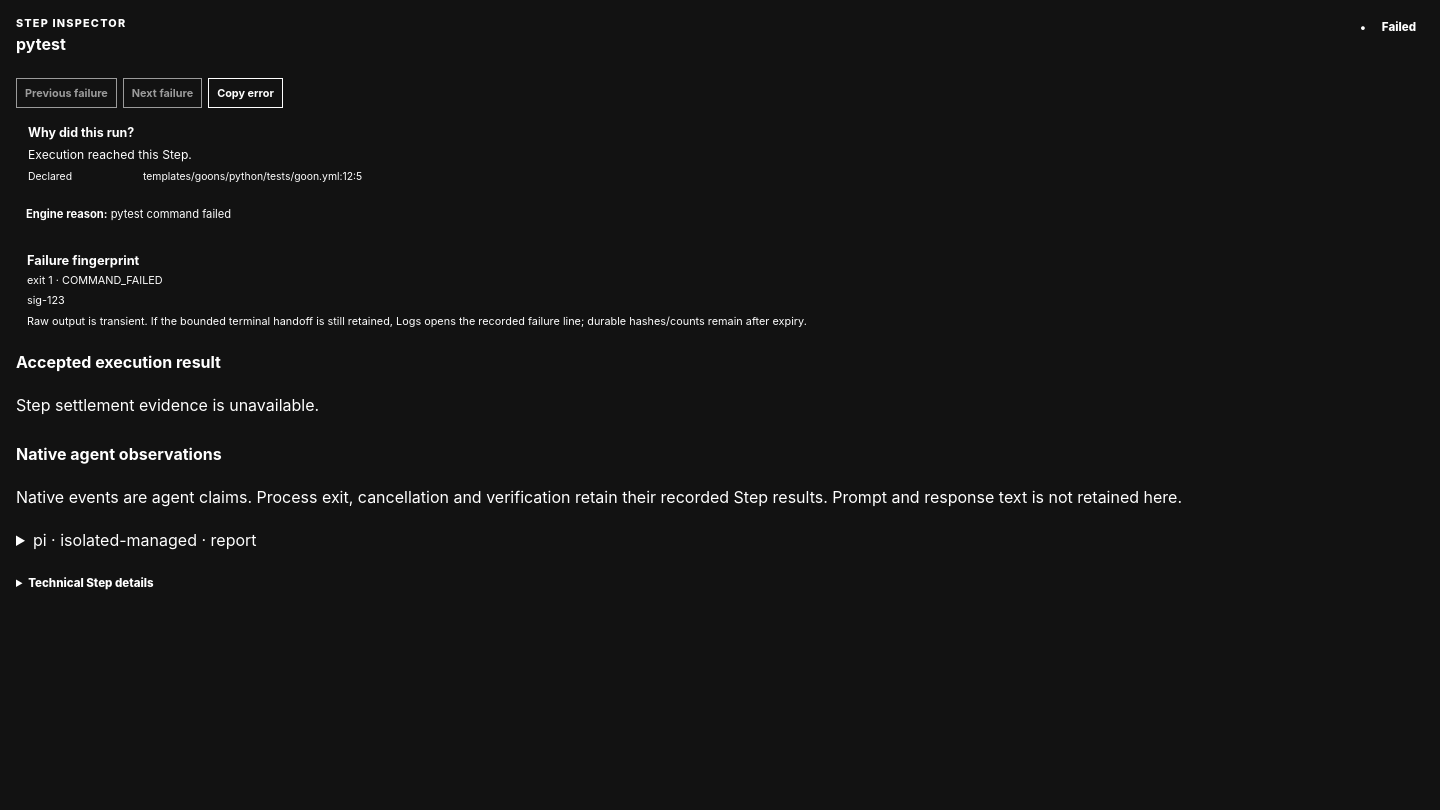
Scenario: GameTapeStepInspector failure actions › discloses recorded native claims and omissions without replacing the failed Step
Expected: the text "Native agent observations" is shown, [16,444,222,464]
Expected: the text "Native events are agent claims" is shown, [16,487,1182,507]
Click the heading "pi · isolated-managed · report": {"x": 145, "y": 540} [33,530,256,550]
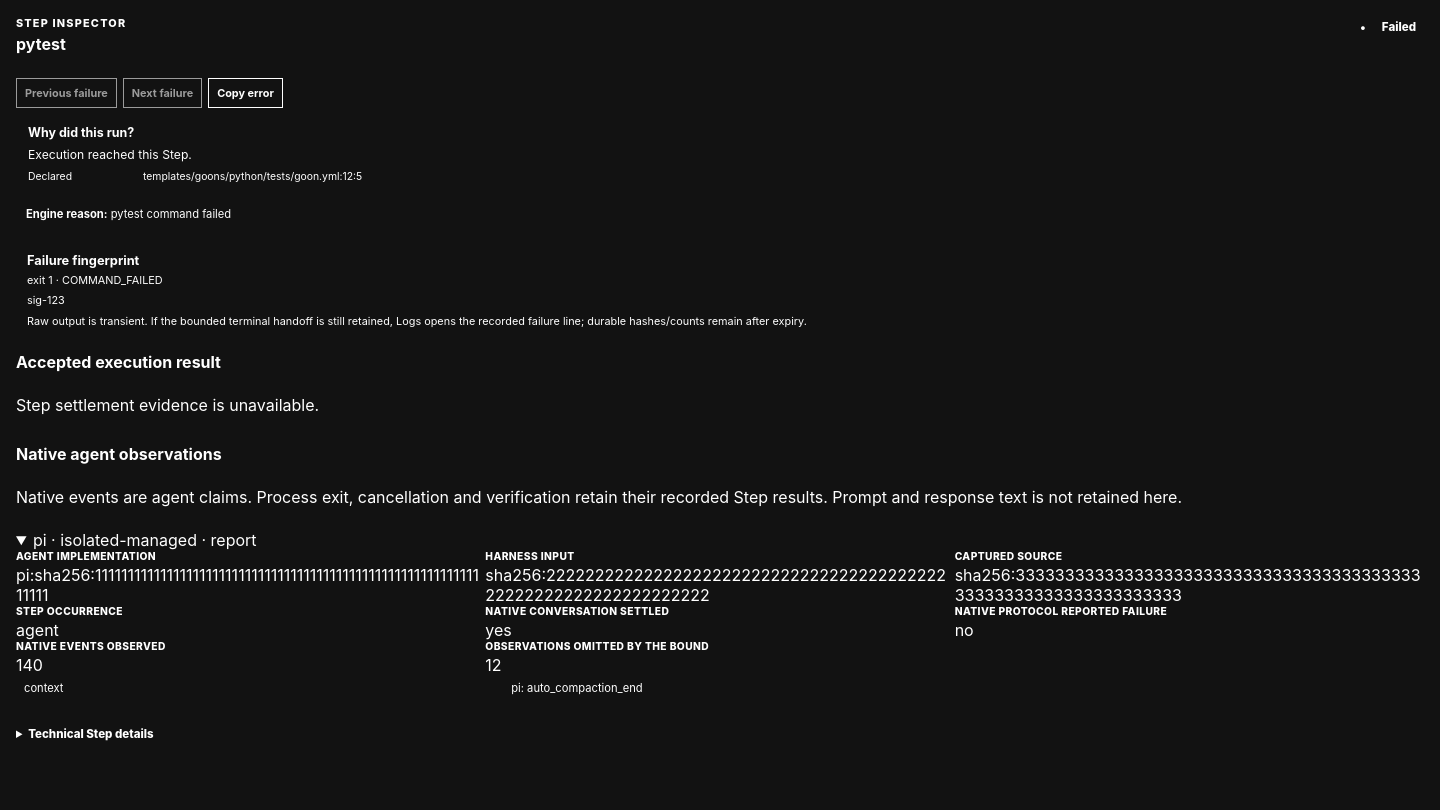
Expected: the text "pytest command failed" is shown, [111,207,231,221]
Expected: the text "pi: auto_compaction_end" is shown, [511,681,643,695]
Expected: the text "12" is shown, [485,655,502,675]
